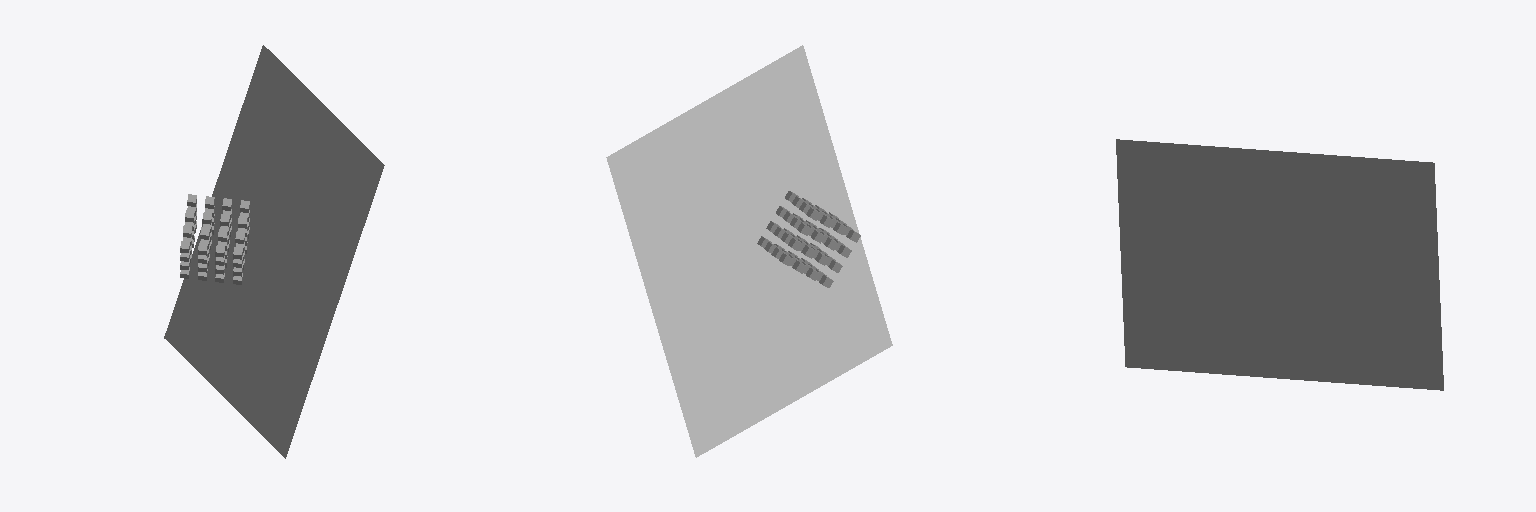
The model's file is cubes.obj.
The picture shows the model from 3 angles: view 1: azimuth 30°, elevation 25°; view 2: azimuth 150°, elevation 25°; view 3: azimuth 270°, elevation 25°; orthographic projection.
Visible parts, largest first — view 1: Plane; view 2: Plane; view 3: Plane.
Part boxes in pixels (bbox=[...]): Plane: bbox=[164, 45, 384, 458]; Plane: bbox=[606, 45, 892, 457]; Plane: bbox=[1116, 139, 1443, 390].
Size of the model in its own units: 43.89 by 69.32 by 73.86.